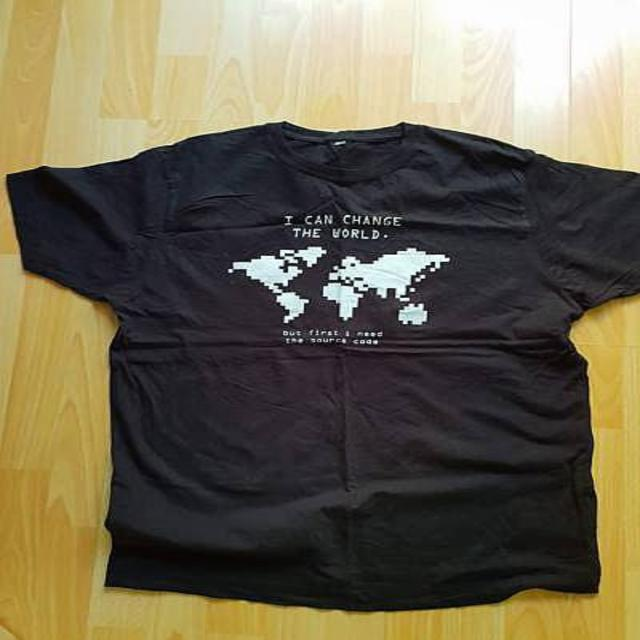T_SHIRT: (7, 118, 640, 622)
